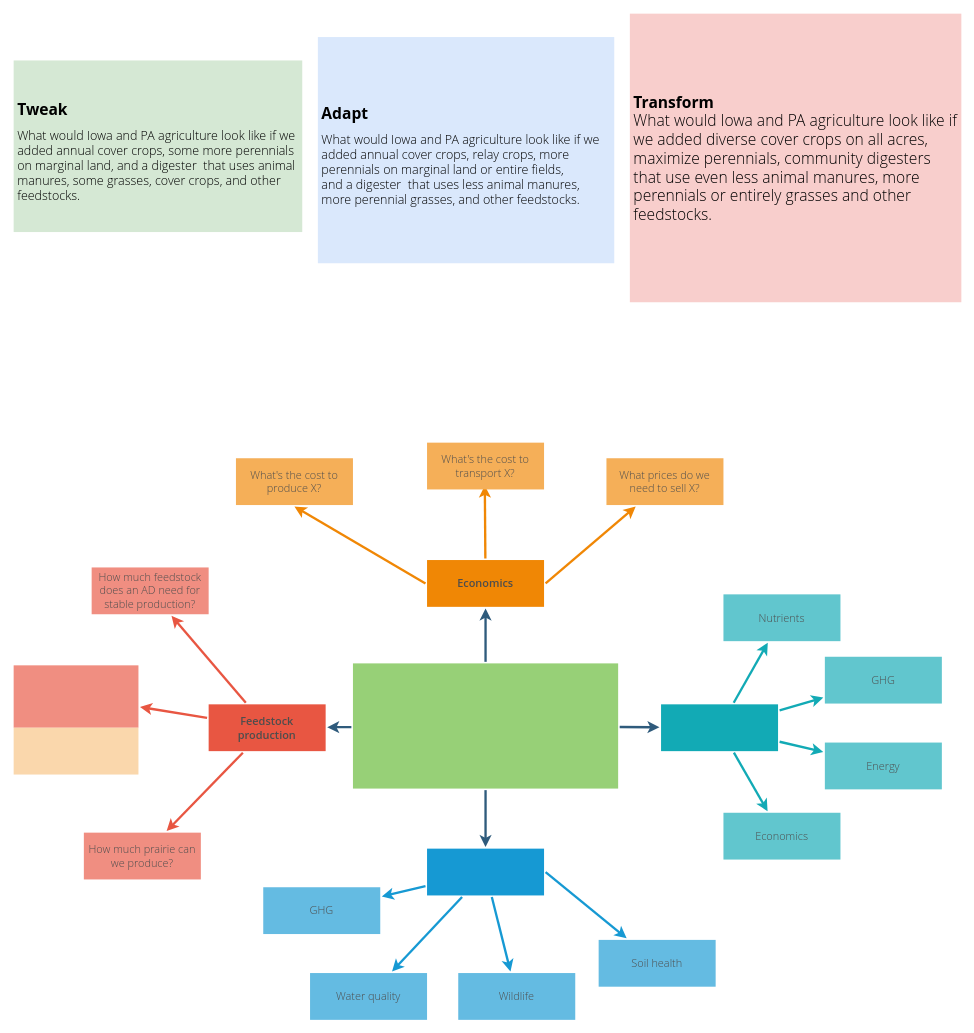
Image size: 974x1033. Some labels were removed from this diagram. Here are the shapes that lost their labels. From the top down, the centre of each, then its label:
At [75,696]: "How much perennial living cover (PLC) feedstocks can we produce?".
At [485,725]: "Advance productive, profitable, and sustainable sources of herbaceous feedstocks".
At [719,727]: "LCA".
At [75,750]: "Prairie, cover crops".
At [485,871]: "Ecosystem services".
